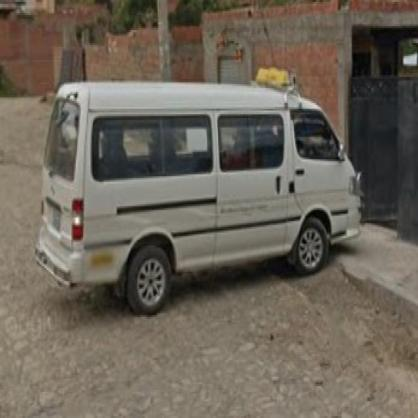car: (42, 82, 369, 309)
